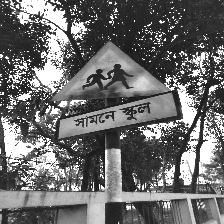School-in-front: (49, 40, 182, 143)
